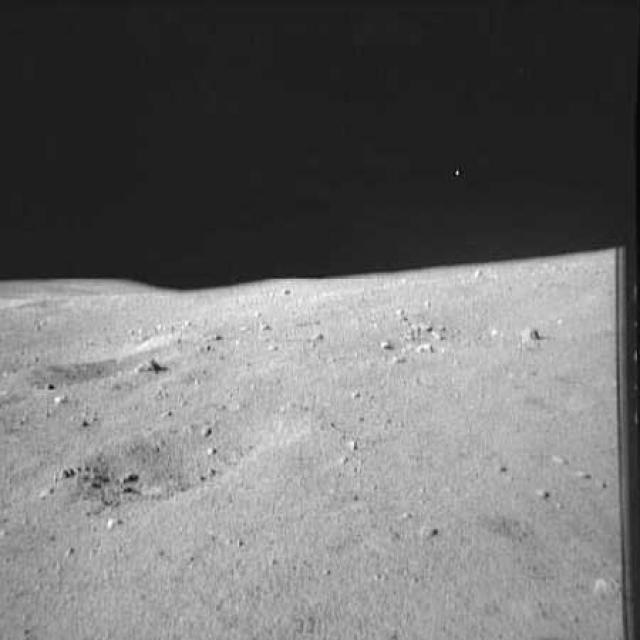crater: (73, 394, 311, 526), (16, 341, 171, 401)
rock: (370, 320, 448, 370), (516, 324, 546, 346), (131, 357, 160, 378)
